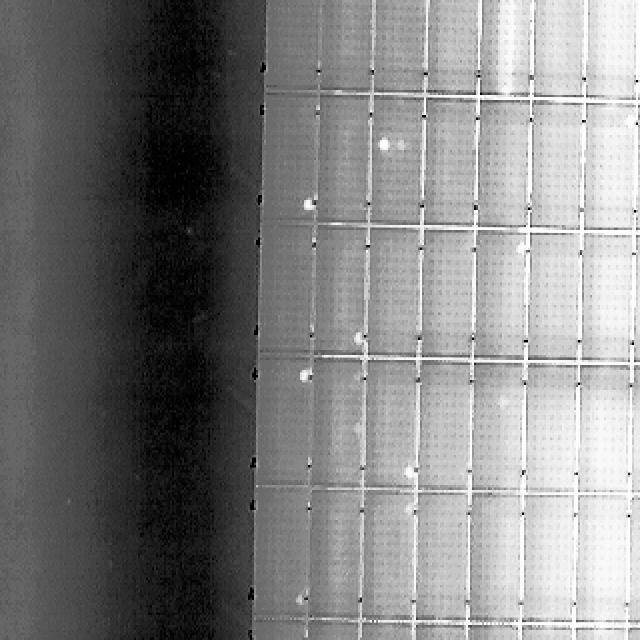Hotspots: (368, 126, 399, 152), (290, 591, 308, 616), (295, 361, 313, 385), (349, 329, 367, 352), (402, 462, 419, 486), (298, 193, 315, 217)
PV-modules: (413, 488, 470, 620), (302, 485, 359, 617), (258, 228, 314, 361), (306, 363, 362, 495), (368, 232, 424, 364), (575, 370, 631, 501), (310, 230, 365, 363), (572, 492, 628, 622), (419, 233, 474, 365), (469, 234, 524, 366), (255, 488, 309, 622), (312, 99, 368, 228), (366, 366, 421, 496), (527, 237, 582, 367), (364, 487, 418, 619), (256, 362, 310, 494), (262, 89, 316, 220), (530, 104, 584, 235), (372, 100, 426, 231), (578, 238, 632, 368), (466, 368, 520, 498), (523, 491, 577, 621), (463, 490, 517, 620), (416, 368, 470, 498), (422, 97, 476, 227), (472, 103, 526, 233), (580, 107, 634, 236), (526, 370, 578, 500), (580, 0, 636, 105), (532, 0, 586, 102), (474, 0, 528, 102), (314, 0, 370, 98), (264, 0, 320, 98), (424, 0, 478, 100), (370, 0, 424, 98), (630, 492, 640, 620), (253, 622, 310, 640), (305, 622, 362, 640), (634, 370, 640, 500), (636, 238, 640, 368), (638, 107, 640, 235)
